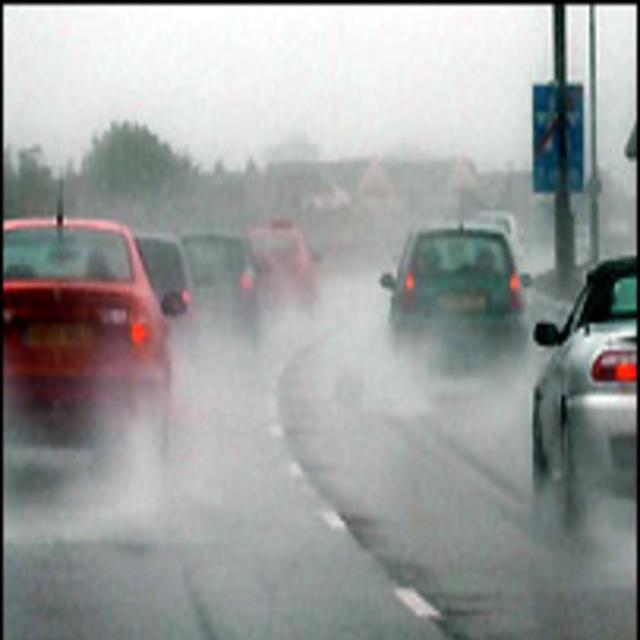car: (3, 220, 181, 470), (530, 255, 640, 526), (383, 223, 528, 324), (186, 223, 256, 339), (248, 228, 330, 324), (141, 239, 195, 355)
